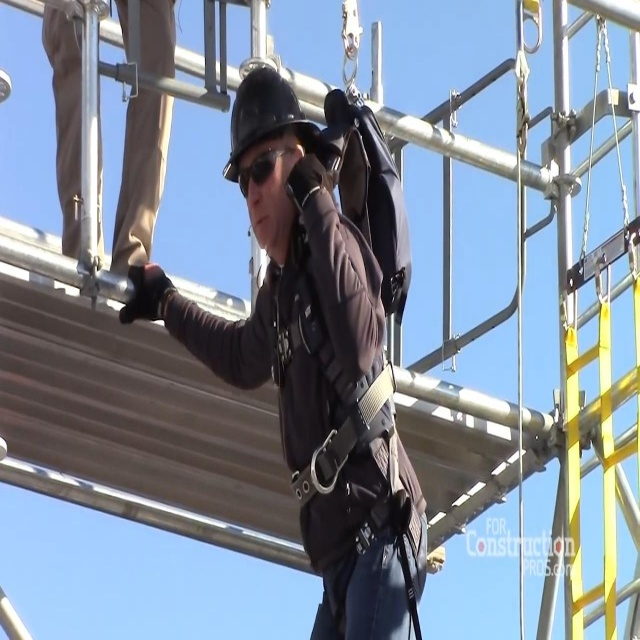Arnes_seguridad: (269, 91, 431, 631)
